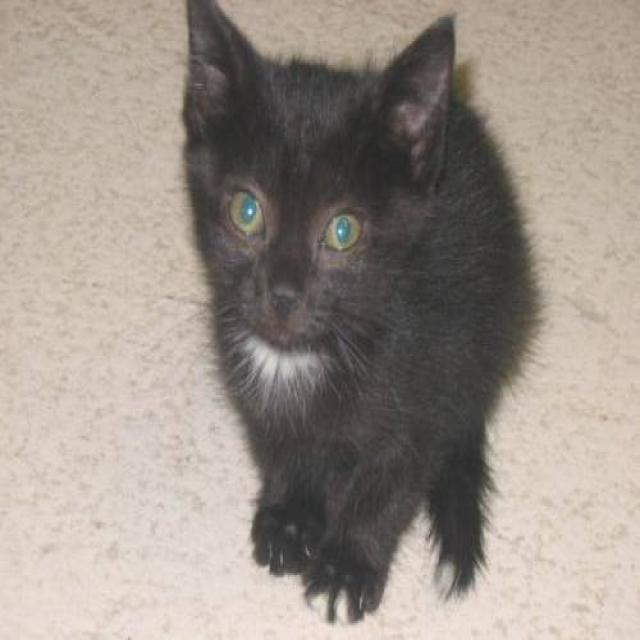Kucing: (157, 4, 564, 615)
